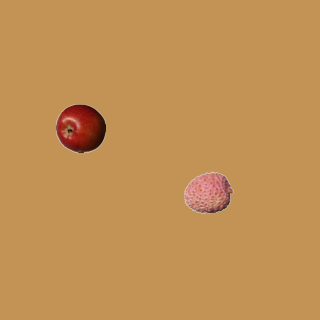Apple Braeburn: (55, 103, 105, 153)
Lychee: (183, 167, 233, 217)
